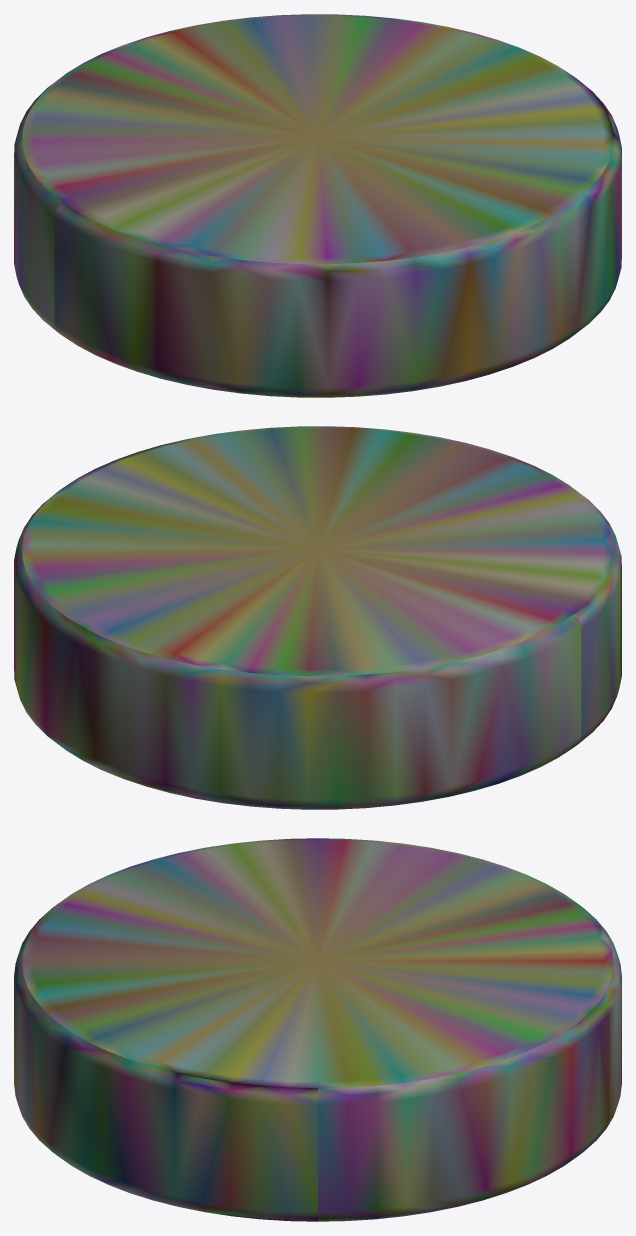
File: HockeyPuck_SM.gltf
3 views of the same model, one above another, from view 1: azimuth 30°, elevation 25°; view 2: azimuth 150°, elevation 25°; view 3: azimuth 270°, elevation 25° (orthographic).
Parts seen in each view (by area): view 1: HockeyPuck_SM; view 2: HockeyPuck_SM; view 3: HockeyPuck_SM.
Part boxes in pixels (<box>): HockeyPuck_SM: <box>14,14,621,397</box>; HockeyPuck_SM: <box>14,426,621,809</box>; HockeyPuck_SM: <box>14,838,621,1221</box>.
Size of the model in its own units: 2.23 by 0.5584 by 2.23.
